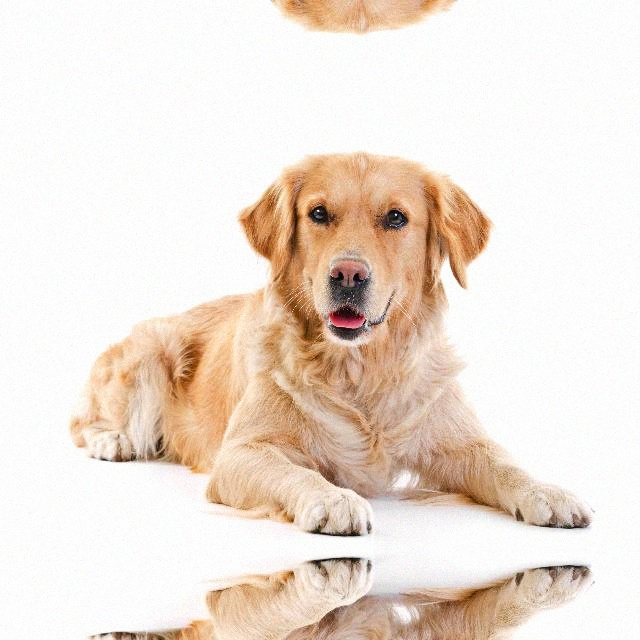dog: (76, 144, 615, 546), (76, 547, 615, 640), (76, 0, 615, 40)
